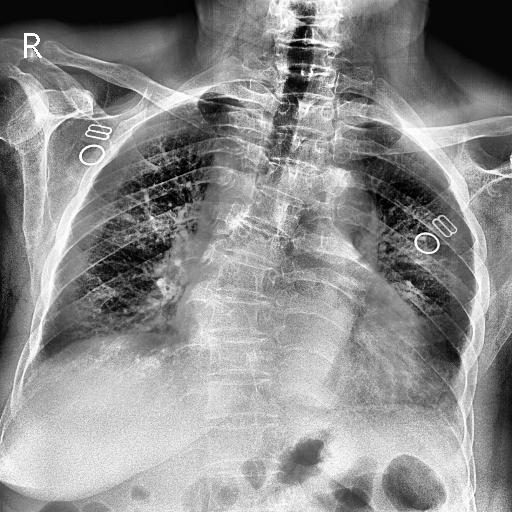0- Aortic enlargement: (272, 169, 378, 283), (294, 169, 375, 275), (278, 166, 370, 242)
11- Pleural thickening: (212, 78, 278, 129)
3- Cardiomegaly: (172, 268, 427, 400), (174, 278, 430, 396), (176, 313, 433, 397)
7- Lung Opacity: (212, 78, 278, 129)
9- Other lesion: (198, 146, 312, 422)
